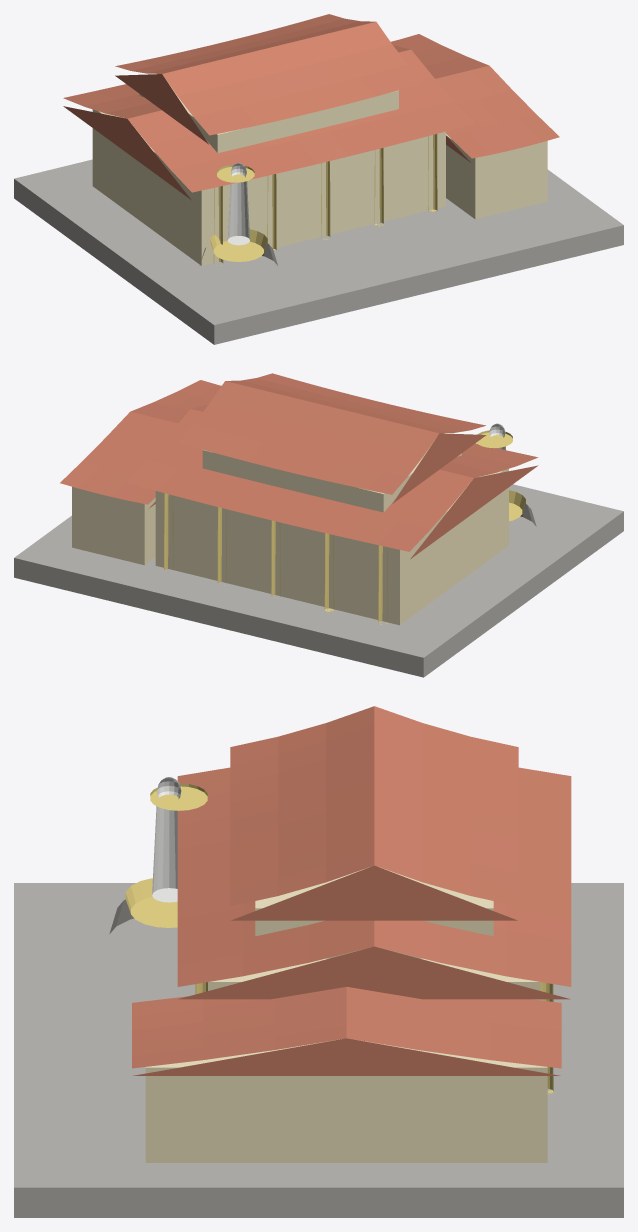
Rendered from lm_79_chua_linh_phong_su_nu_1940_doi_hoang_hoa_tham.glb.
3 views of the same model, one above another, from view 1: azimuth 30°, elevation 25°; view 2: azimuth 150°, elevation 25°; view 3: azimuth 270°, elevation 25° (orthographic). The views are drawn at different scales.
Parts seen in each view (by area): view 1: lm_79_chua_linh_phong_su_nu_1940_doi_hoang_hoa_tham; view 2: lm_79_chua_linh_phong_su_nu_1940_doi_hoang_hoa_tham; view 3: lm_79_chua_linh_phong_su_nu_1940_doi_hoang_hoa_tham.
Boxes of the visible parts, left/top/right/bottom form: lm_79_chua_linh_phong_su_nu_1940_doi_hoang_hoa_tham: left=14, top=14, right=623, bottom=344; lm_79_chua_linh_phong_su_nu_1940_doi_hoang_hoa_tham: left=14, top=373, right=623, bottom=677; lm_79_chua_linh_phong_su_nu_1940_doi_hoang_hoa_tham: left=14, top=706, right=623, bottom=1217.
Size of the model in its own units: 26 by 10.2 by 22.
